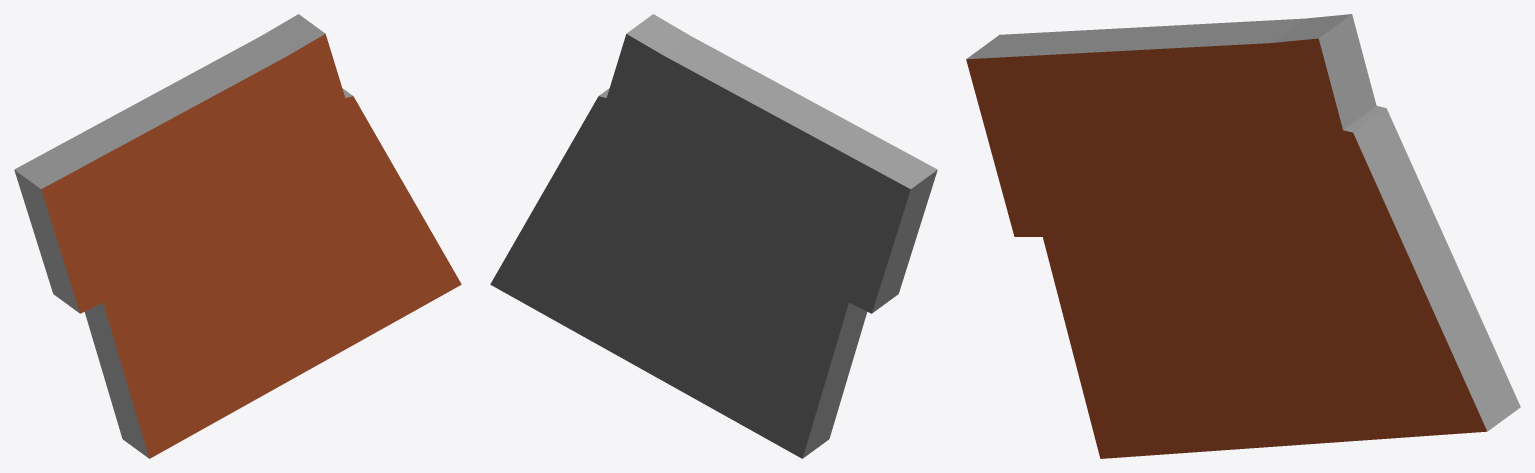
File: construction_4426_assumed_A_Casa_h6m.obj
3 renders of one model, left to right at view 1: azimuth 30°, elevation 25°; view 2: azimuth 150°, elevation 25°; view 3: azimuth 330°, elevation 25°, orthographic. The views are drawn at different scales.
Visible parts, largest first — view 1: construction_4426_assumed_A_Casa; view 2: construction_4426_assumed_A_Casa; view 3: construction_4426_assumed_A_Casa.
Boxes of the visible parts, x1,y1,x2,y2 form: construction_4426_assumed_A_Casa: [14, 14, 461, 458]; construction_4426_assumed_A_Casa: [490, 14, 937, 458]; construction_4426_assumed_A_Casa: [966, 14, 1520, 458].
Size of the model in its own units: 53.99 by 46.88 by 6.
